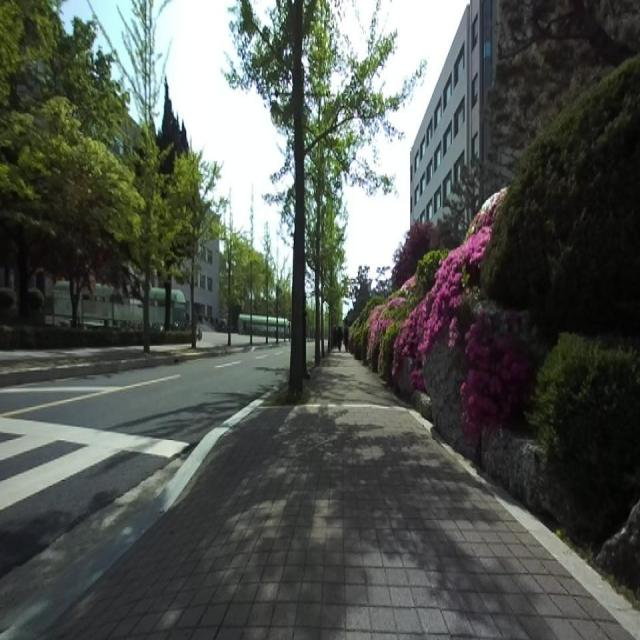sidewalk: (44, 354, 634, 639), (0, 400, 263, 640)
